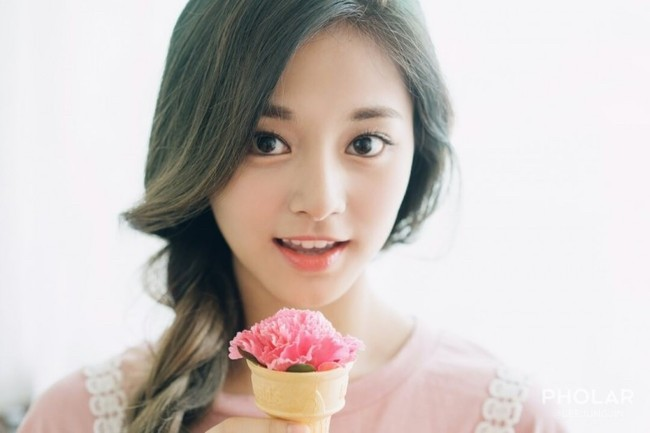people: (113, 3, 463, 433)
